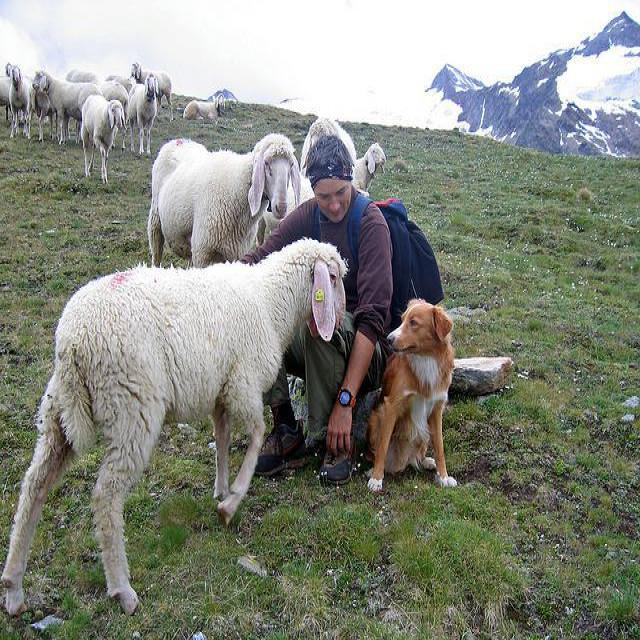Sheep: (4, 237, 347, 615), (0, 61, 313, 283), (147, 132, 301, 267), (33, 70, 104, 146), (299, 110, 355, 202), (81, 95, 127, 184), (132, 68, 176, 123), (352, 143, 387, 197)
